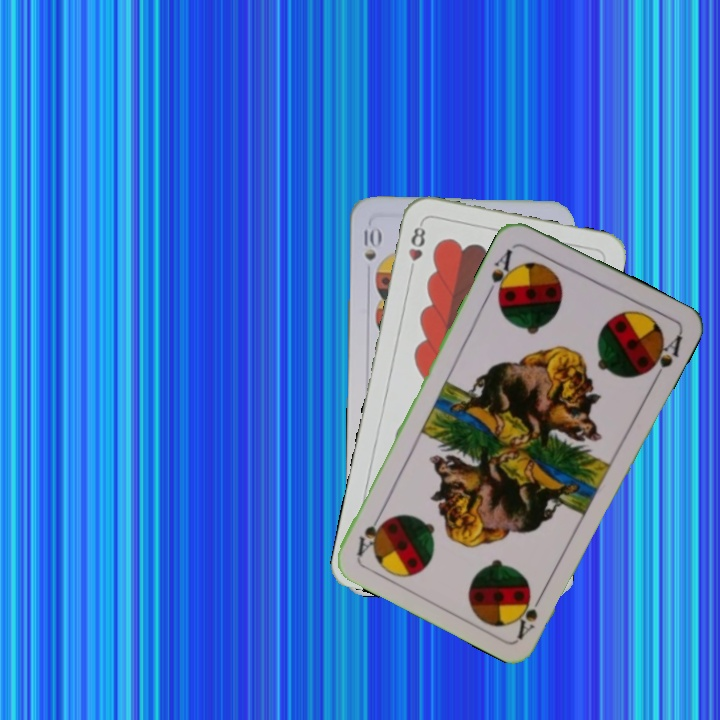H8: (404, 219, 428, 277)
S10: (360, 223, 382, 263)
SA: (483, 244, 519, 302), (513, 585, 548, 641)
